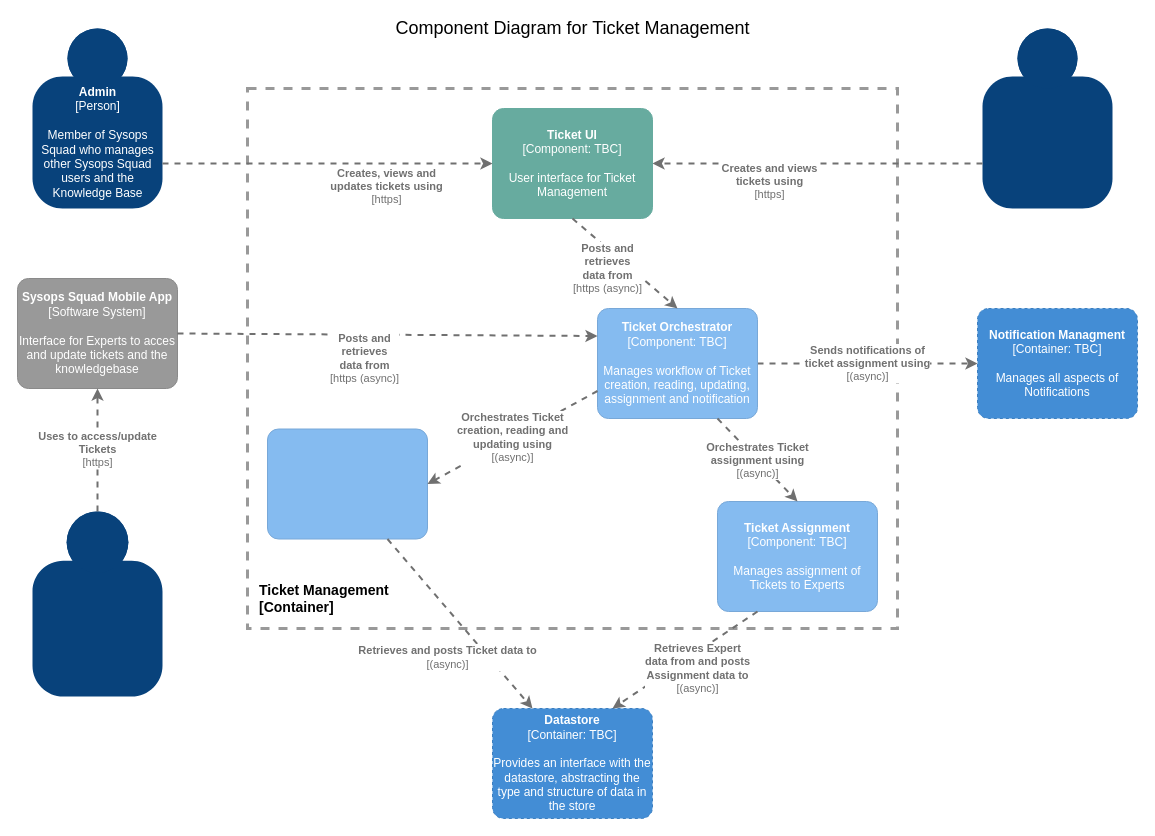
Some shapes in this 1155 by 836 pixel diagram are drawn without their labels. The centre of each missing label's shape, as x and y in pixels:
Customer [Person] A customer of Penultimate Electronics: pixel 1047 118
Expert [Person] Member of Sysops Squad who acts on tickets: pixel 97 603
Ticket Management [Component: TBC] Manages ticket creation, reading and updating: pixel 347 483
